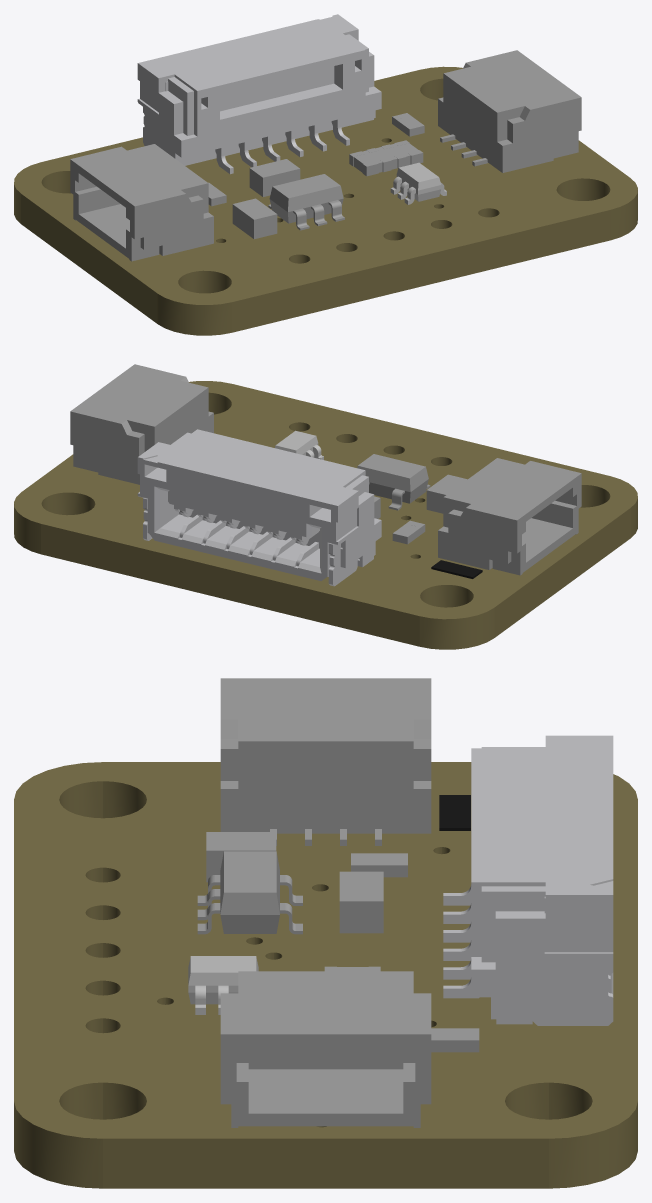
File: ada-6331.glb
The picture shows the model from 3 angles, top to bottom: view 1: azimuth 30°, elevation 25°; view 2: azimuth 150°, elevation 25°; view 3: azimuth 270°, elevation 25°; orthographic projection. The views are drawn at different scales.
Visible parts, largest first — view 1: 0.16666666666666666_0.16666666666666666_0.08333333333333333_, 0.3333333333333333_0.3333333333333333_0.3333333333333333_0, 0.5833333333333334_0.5833333333333334_0.5833333333333334_0.8, 0.5_0.5_0.5_0.85; view 2: 0.16666666666666666_0.16666666666666666_0.08333333333333333_, 0.3333333333333333_0.3333333333333333_0.3333333333333333_0, 0.5833333333333334_0.5833333333333334_0.5833333333333334_0.8, 0.5_0.5_0.5_0.85, 0_0_0_0; view 3: 0.16666666666666666_0.16666666666666666_0.08333333333333333_, 0.3333333333333333_0.3333333333333333_0.3333333333333333_0, 0.5833333333333334_0.5833333333333334_0.5833333333333334_0.8, 0.5_0.5_0.5_0.85, 0_0_0_0.
Boxes of the visible parts, x1=… form: 0.16666666666666666_0.16666666666666666_0.08333333333333333_: x1=14, y1=66, x2=637, y2=335; 0.3333333333333333_0.3333333333333333_0.3333333333333333_0: x1=70, y1=50, x2=581, y2=261; 0.5833333333333334_0.5833333333333334_0.5833333333333334_0.8: x1=137, y1=14, x2=381, y2=174; 0.5_0.5_0.5_0.85: x1=390, y1=162, x2=446, y2=204; 0.16666666666666666_0.16666666666666666_0.08333333333333333_: x1=14, y1=381, x2=637, y2=649; 0.3333333333333333_0.3333333333333333_0.3333333333333333_0: x1=70, y1=364, x2=581, y2=575; 0.5833333333333334_0.5833333333333334_0.5833333333333334_0.8: x1=137, y1=429, x2=381, y2=586; 0.5_0.5_0.5_0.85: x1=275, y1=430, x2=323, y2=459; 0_0_0_0: x1=431, y1=560, x2=482, y2=578; 0.16666666666666666_0.16666666666666666_0.08333333333333333_: x1=14, y1=762, x2=637, y2=1188; 0.3333333333333333_0.3333333333333333_0.3333333333333333_0: x1=197, y1=678, x2=479, y2=1127; 0.5833333333333334_0.5833333333333334_0.5833333333333334_0.8: x1=443, y1=735, x2=613, y2=1025; 0.5_0.5_0.5_0.85: x1=188, y1=956, x2=258, y2=1014; 0_0_0_0: x1=439, y1=795, x2=470, y2=830.
Bounding box in the file's own units: 2.54 × 0.5819 × 1.78.
